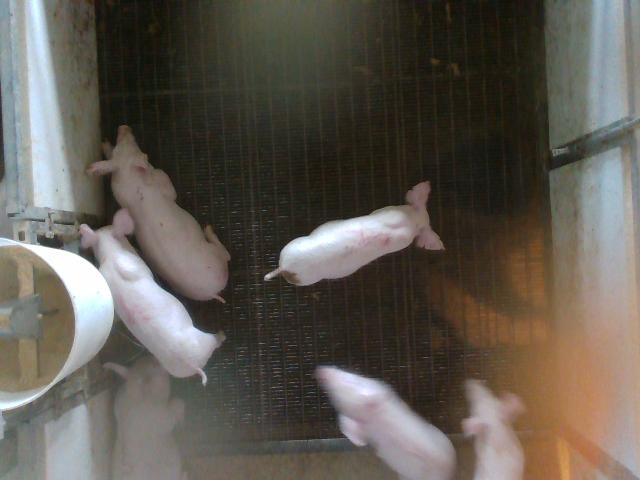pig-4: (80, 209, 225, 383)
pig-5: (264, 182, 444, 286)
